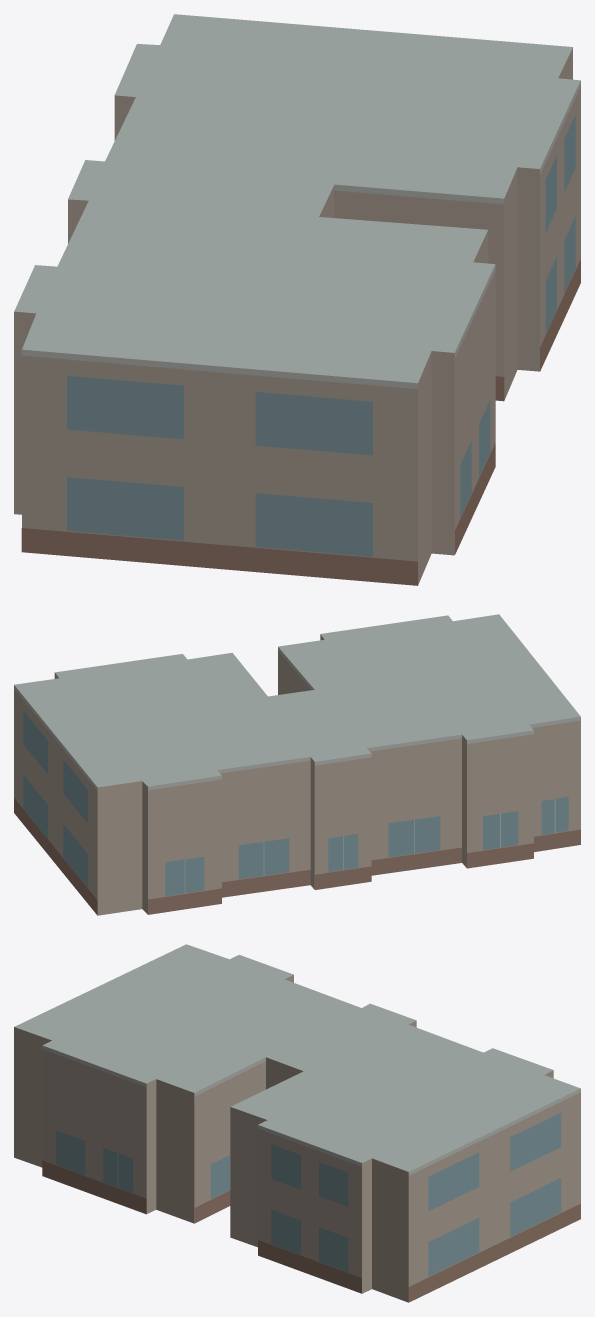
Rendered from survey-upis-32469329.glb.
The picture shows the model from 3 angles, top to bottom: view 1: azimuth 30°, elevation 25°; view 2: azimuth 150°, elevation 25°; view 3: azimuth 270°, elevation 25°; orthographic projection. The views are drawn at different scales.
Visible parts, largest first — view 1: survey-upis-32469329.tmp; view 2: survey-upis-32469329.tmp; view 3: survey-upis-32469329.tmp.
Boxes of the visible parts, box(x1,y1,x2,y2) form: survey-upis-32469329.tmp: box(14, 14, 580, 585); survey-upis-32469329.tmp: box(14, 614, 580, 915); survey-upis-32469329.tmp: box(14, 944, 580, 1302).
Size of the model in its own units: 31.15 by 8.33 by 32.75.
